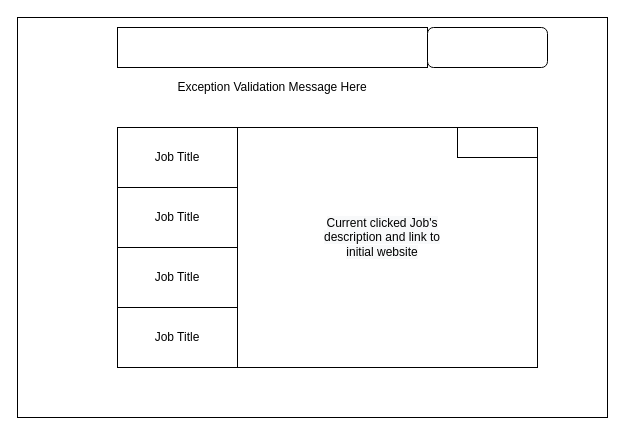
This 625x435 diagram has some shape labels left out. Each missing label, with the centre of its shape:
Save Job: pixel 497 142
Search Degree: pixel 487 47
